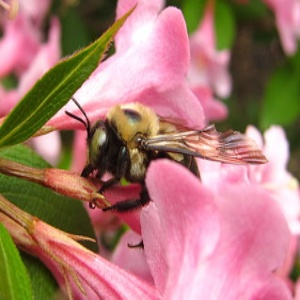bee: (66, 95, 270, 213)
